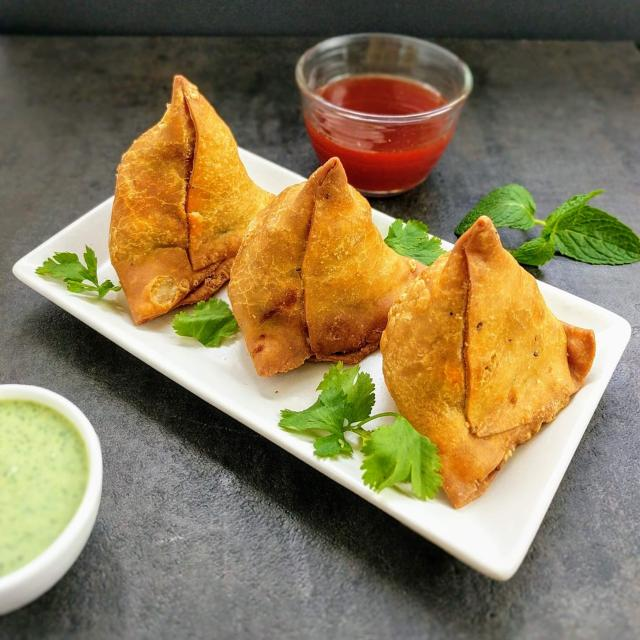SAMOSA: (377, 214, 593, 510), (233, 144, 431, 384), (112, 72, 263, 325)
